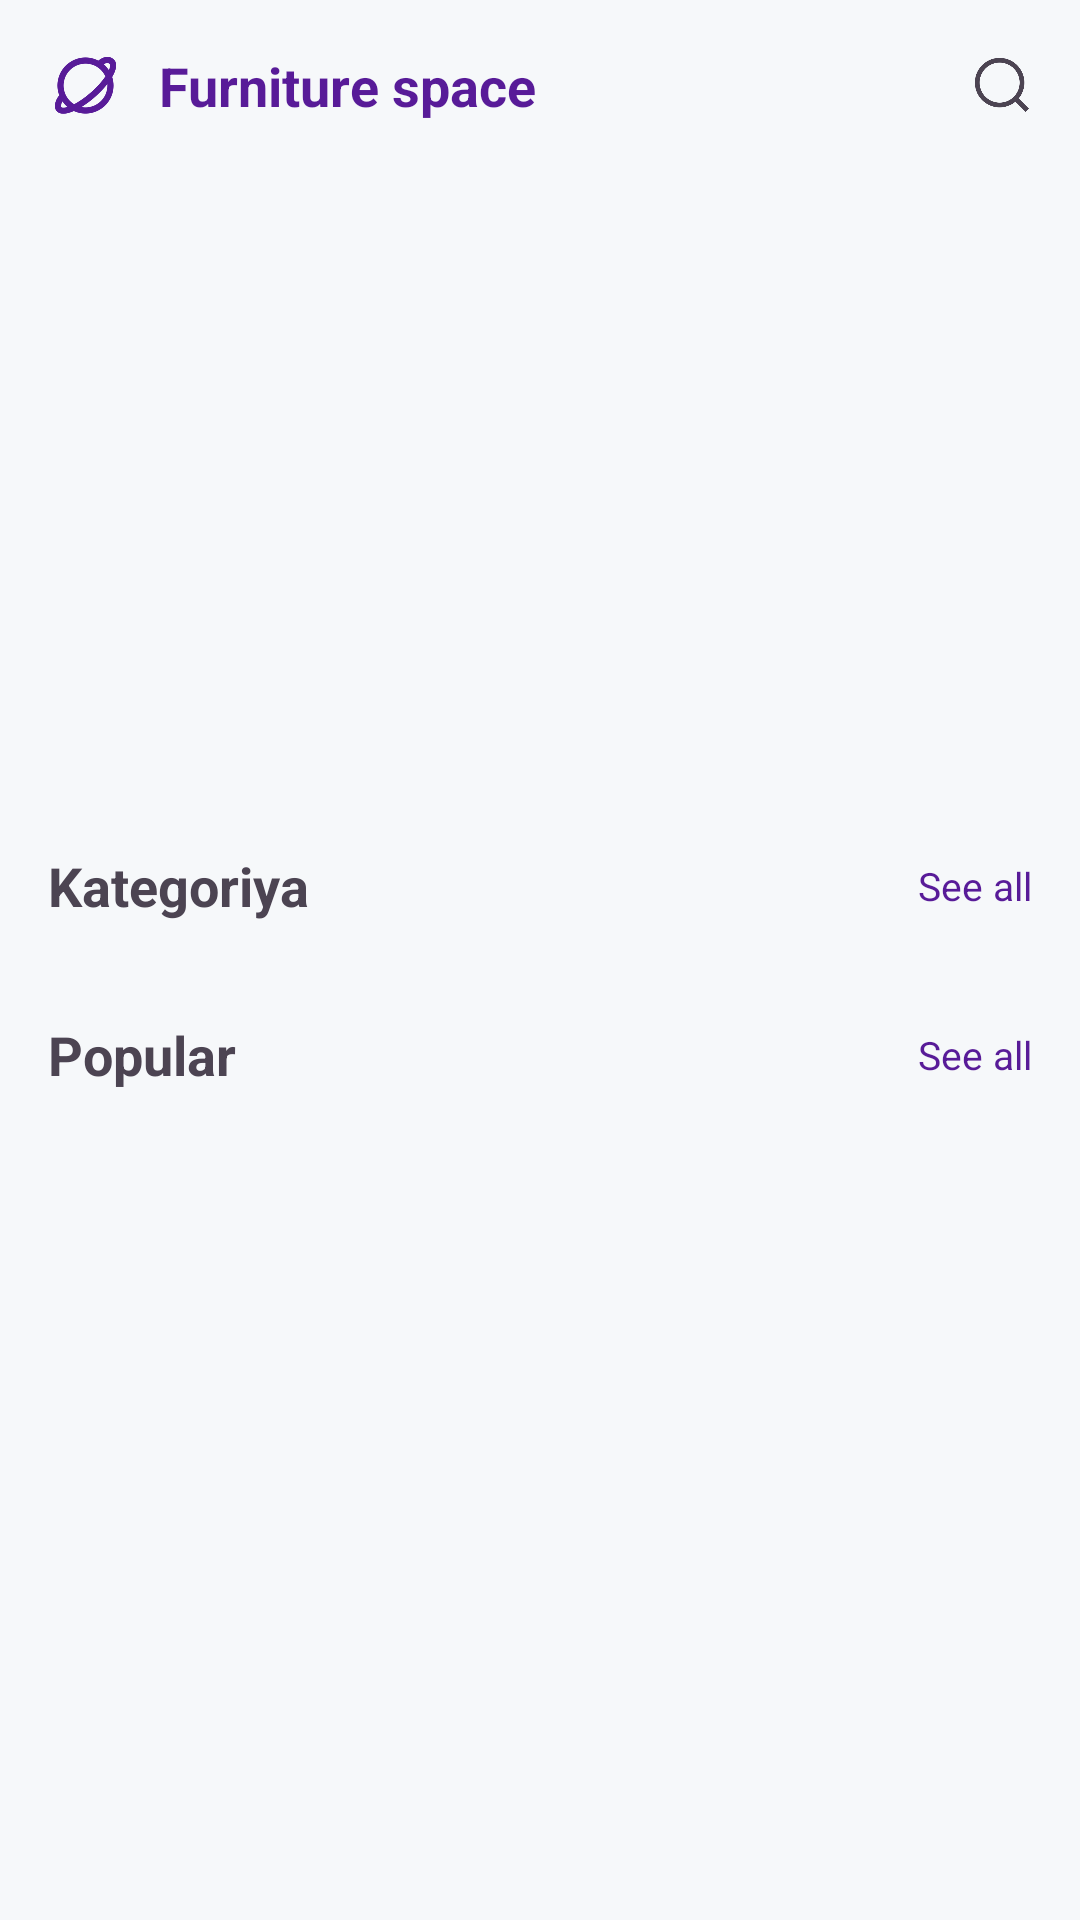

Icon click points for this 1080 × 1920 phone screenshot, format [x,y]:
search: [1002,85]
